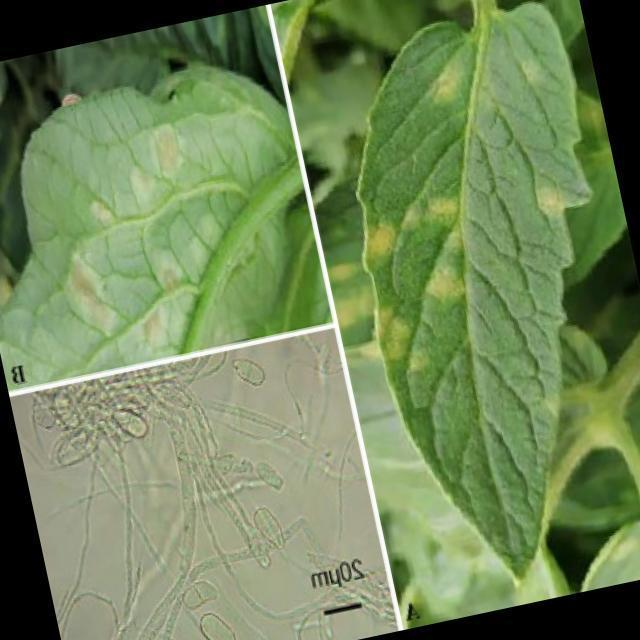Mosaic Virus: (324, 34, 624, 471), (2, 104, 266, 382)
